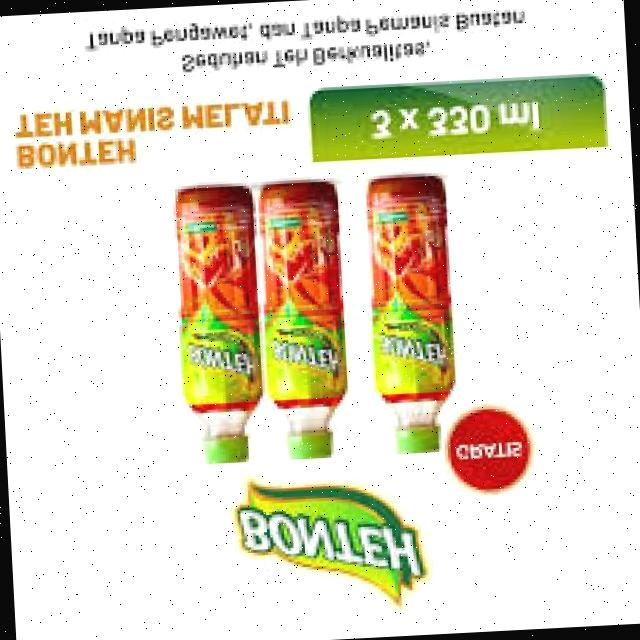bottle: (163, 174, 277, 474), (253, 174, 359, 474), (366, 166, 464, 465)
cap: (280, 426, 340, 466), (196, 430, 254, 468), (396, 420, 439, 460)
